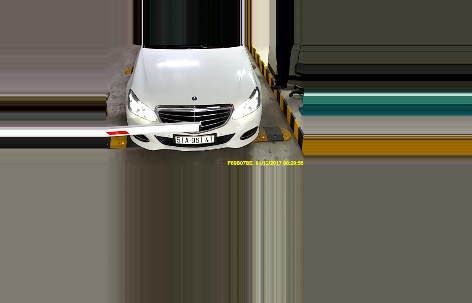plate: (173, 131, 217, 146)
